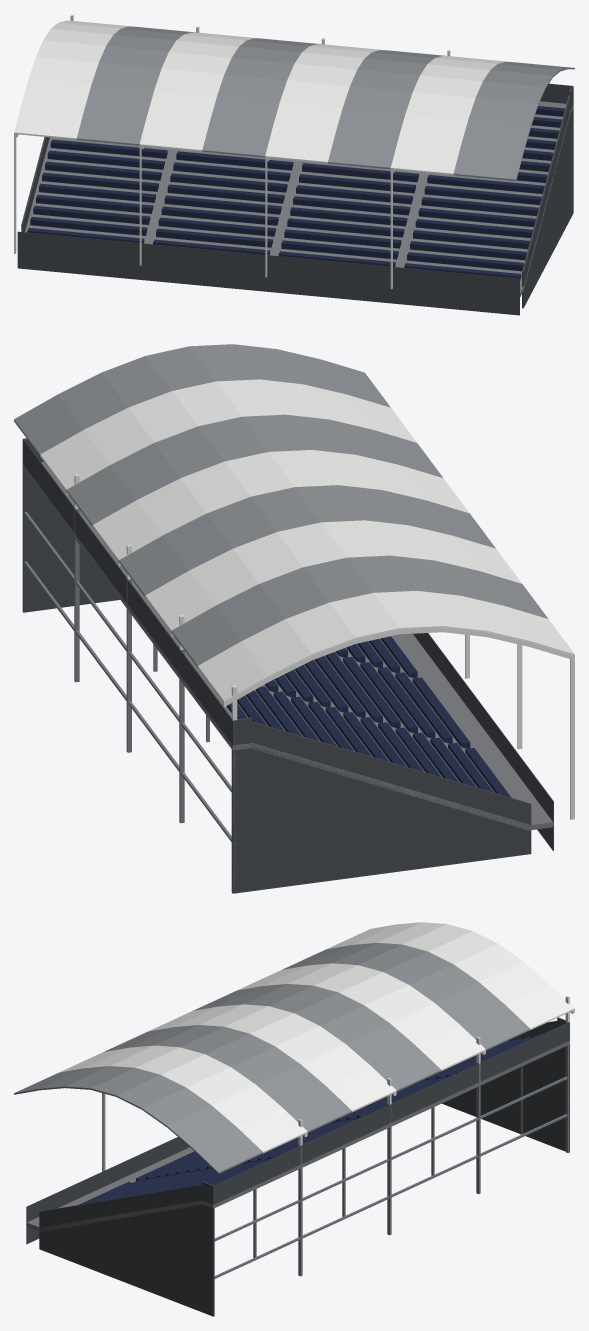
The model's file is sil_stand_jim_clark.glb.
3 views of the same model, one above another, from view 1: azimuth 30°, elevation 25°; view 2: azimuth 150°, elevation 25°; view 3: azimuth 270°, elevation 25° (orthographic). The views are drawn at different scales.
Parts seen in each view (by area): view 1: silverstone-jim-clark; view 2: silverstone-jim-clark; view 3: silverstone-jim-clark.
Part boxes in pixels (x1=…): silverstone-jim-clark: x1=14, y1=14, x2=574, y2=315; silverstone-jim-clark: x1=14, y1=344, x2=574, y2=893; silverstone-jim-clark: x1=14, y1=922, x2=574, y2=1316.
Bounding box in the file's own units: 33.44 × 11.76 × 32.55.
